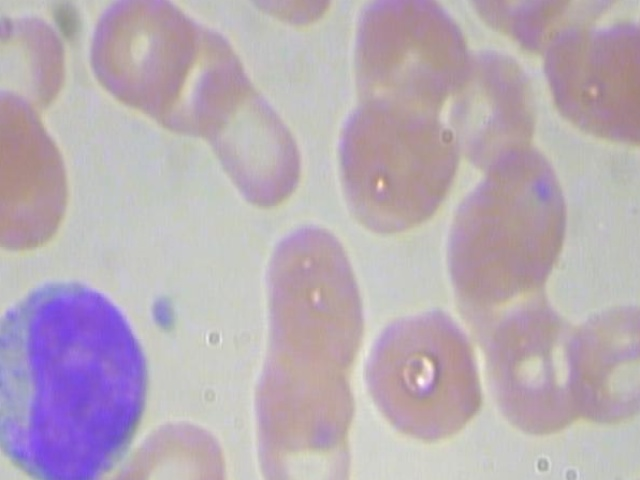Platelets: (142, 292, 185, 341)
RBC: (185, 59, 310, 226), (334, 98, 471, 245), (359, 299, 492, 445), (477, 297, 592, 443), (134, 9, 247, 143), (349, 0, 472, 117), (82, 0, 196, 114), (250, 335, 359, 454), (263, 255, 366, 374), (558, 295, 640, 429), (250, 399, 359, 480), (123, 415, 232, 480), (457, 0, 572, 41), (218, 0, 336, 29)
WBC: (0, 261, 154, 480)
